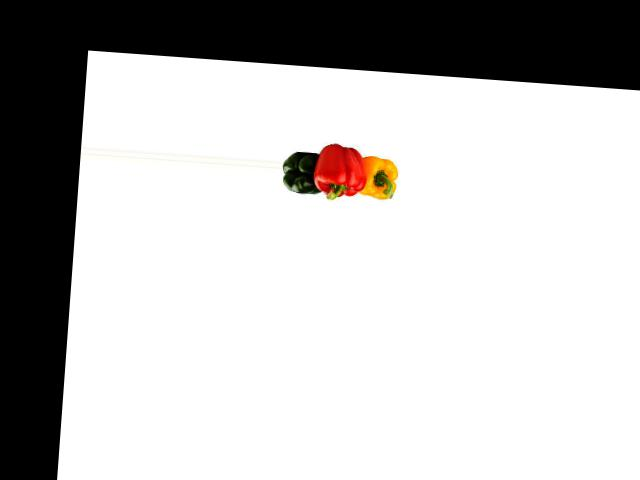bell_pepper: (355, 147, 402, 205)
